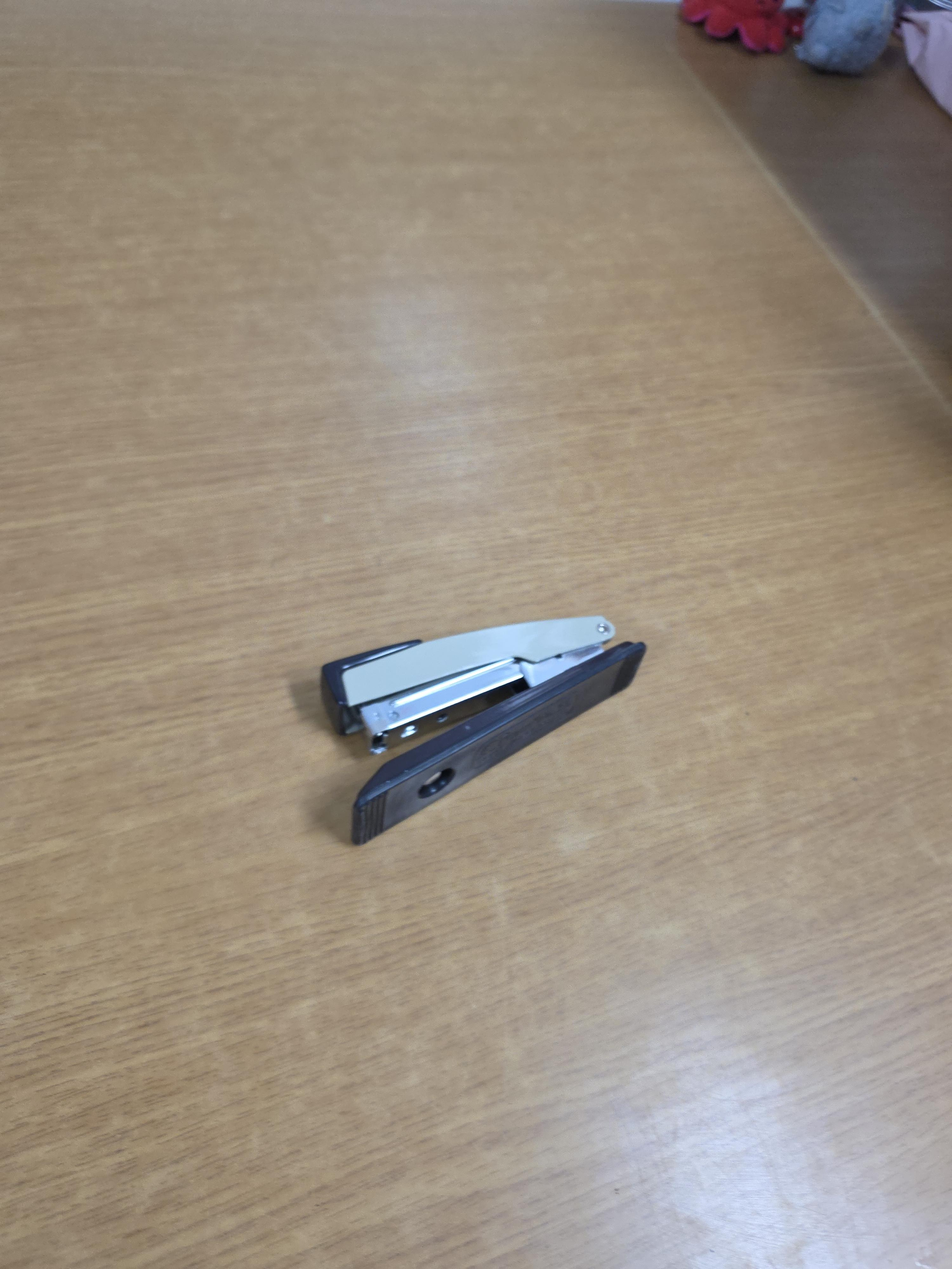stapler: (319, 615, 648, 847)
